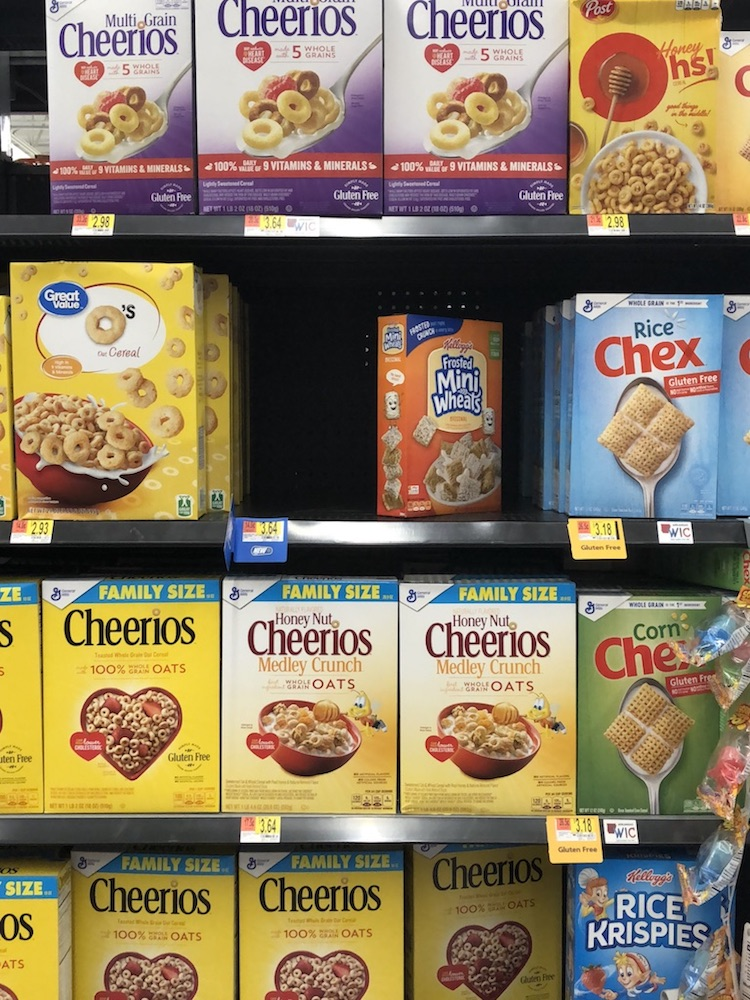Frosted Mini Original -9295869: (368, 324, 507, 512)
